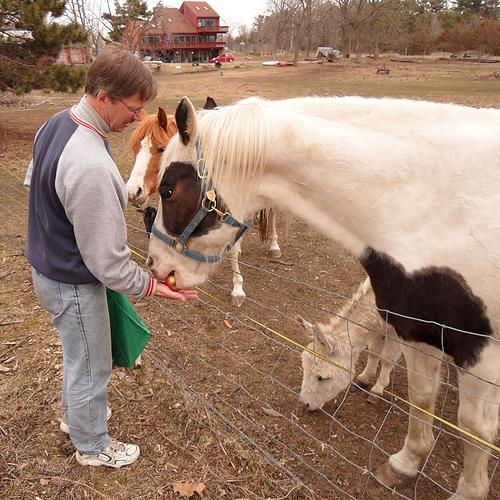person: (20, 45, 199, 468)
